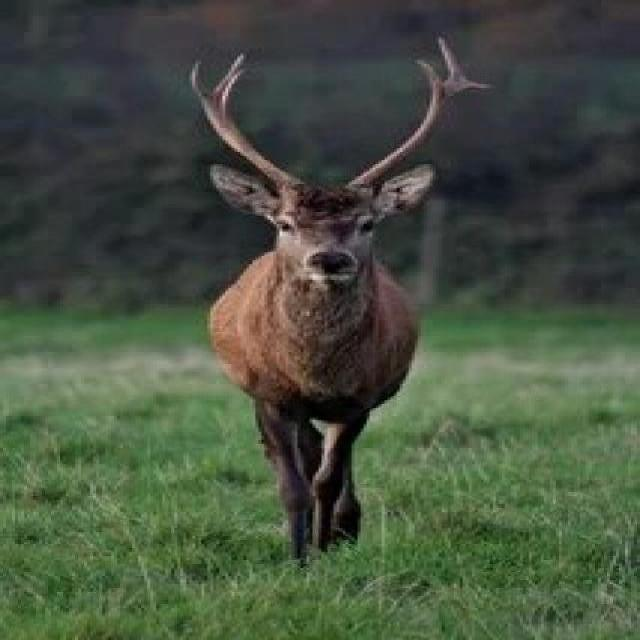deer: (90, 111, 532, 557)
